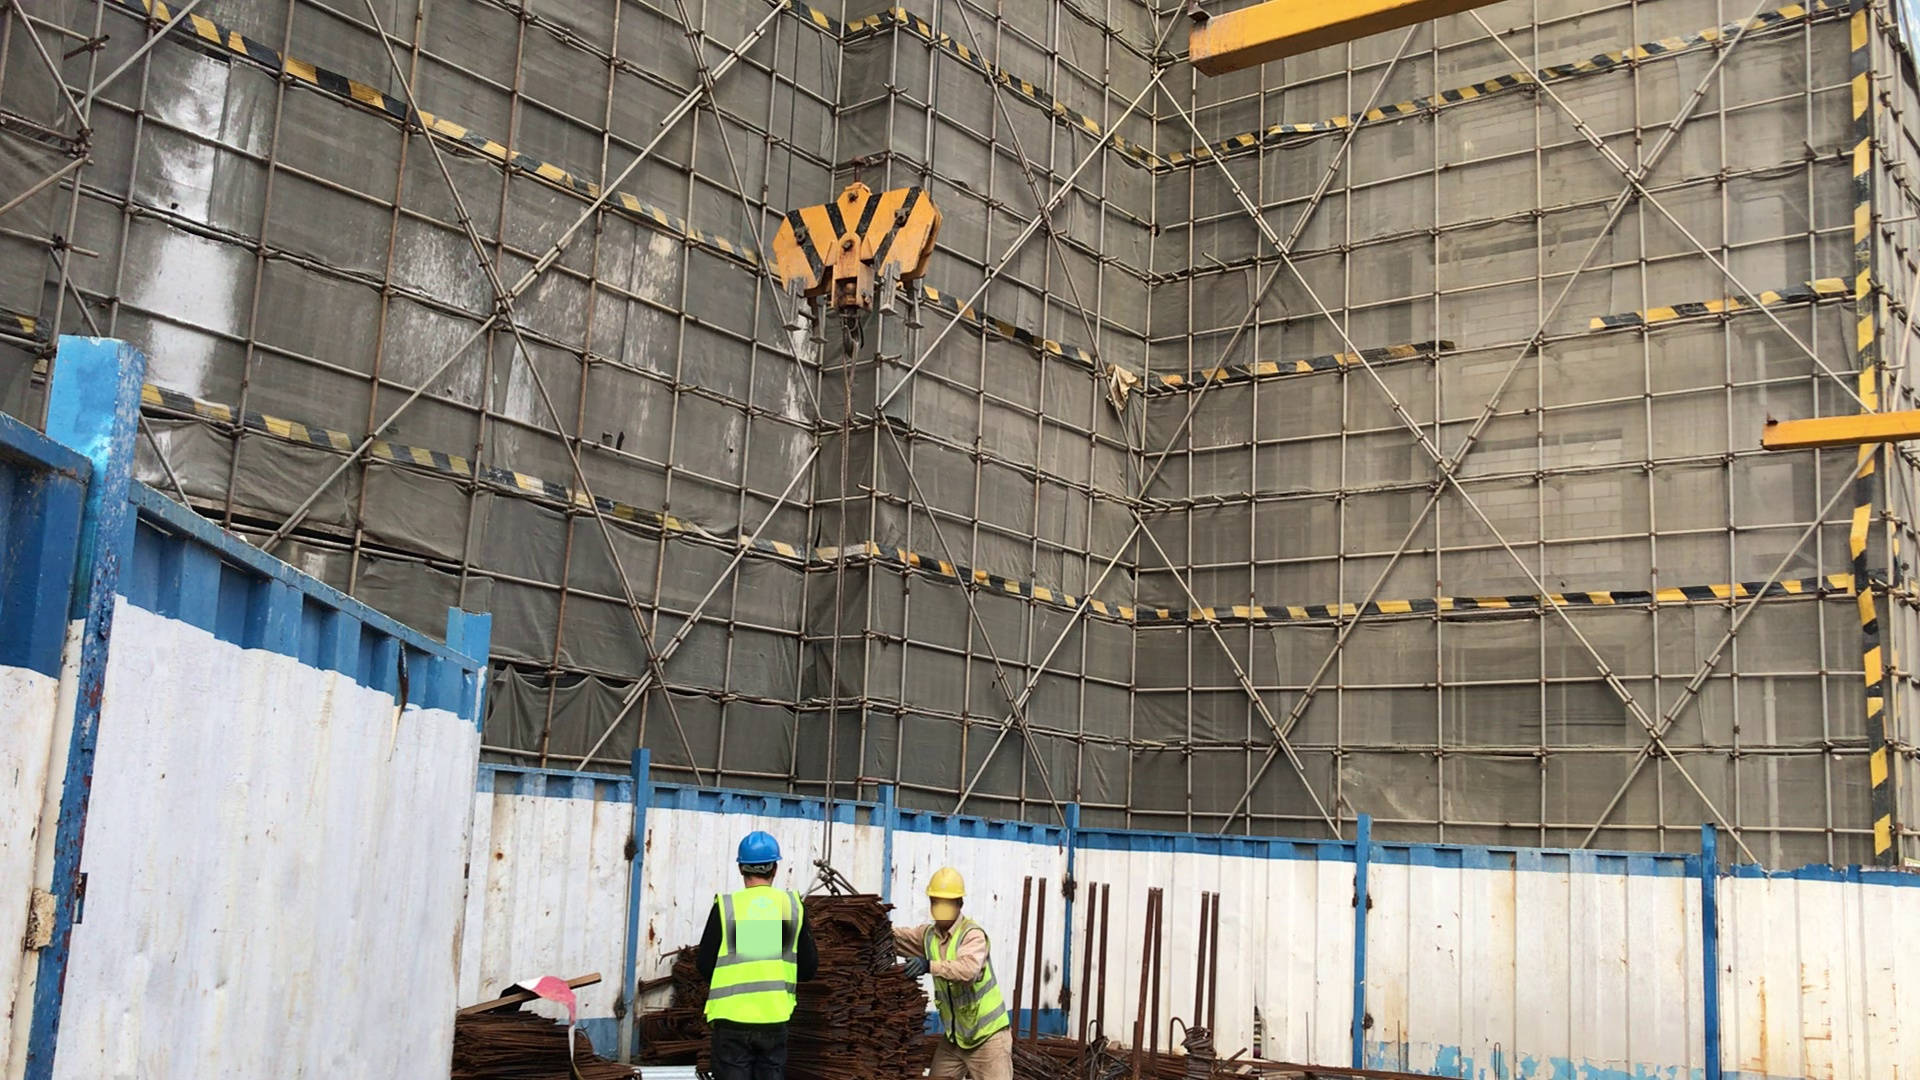helmet: (925, 865, 965, 919), (734, 833, 785, 871)
hook: (770, 171, 942, 408)
person: (697, 828, 807, 1076), (908, 859, 1026, 1080)
vest: (711, 889, 797, 1030), (920, 926, 1013, 1049)
